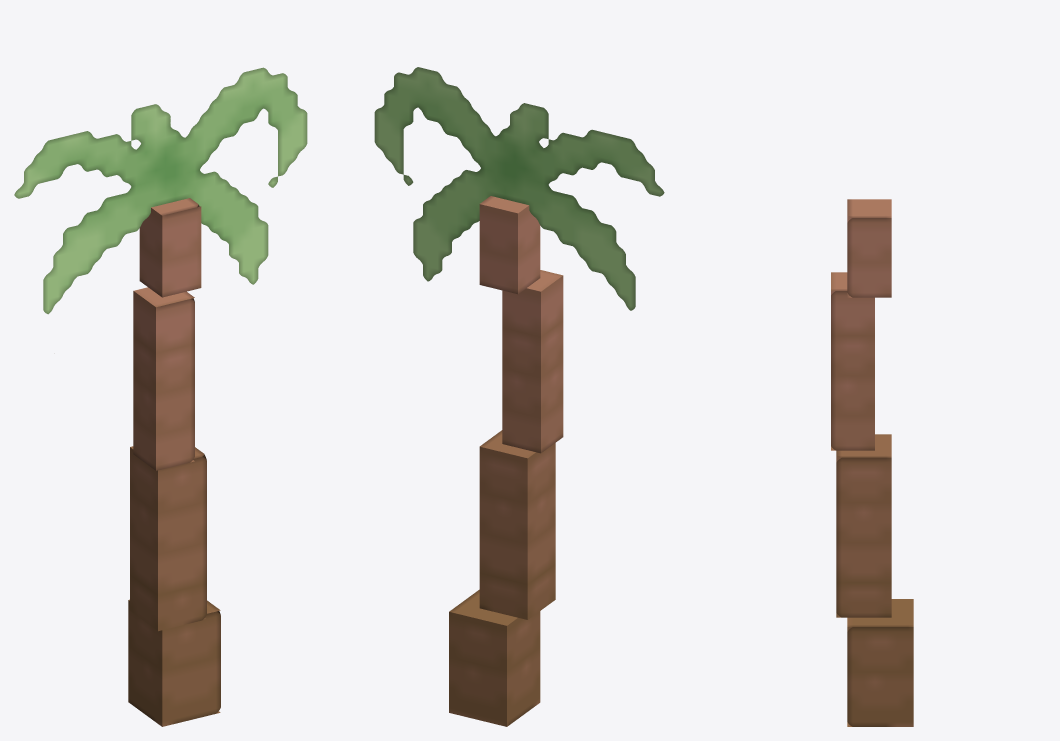
File: PalmTreeStage3.fbx
3 renders of one model, left to right at view 1: azimuth 30°, elevation 25°; view 2: azimuth 150°, elevation 25°; view 3: azimuth 270°, elevation 25°, orthographic. The views are drawn at different scales.
Visible parts, largest first — view 1: crown, trunk, trunk_2, trunk_1, trunk_3; view 2: crown, trunk, trunk_2, trunk_1, trunk_3; view 3: trunk, trunk_1, trunk_2, trunk_3.
Part boxes in pixels (box(x1,y1,x2,y2)): crown: box(14, 67, 307, 314); trunk: box(130, 446, 206, 631); trunk_2: box(133, 287, 194, 470); trunk_1: box(128, 599, 220, 726); trunk_3: box(139, 198, 201, 297); crown: box(374, 67, 664, 310); trunk: box(479, 430, 555, 619); trunk_2: box(502, 270, 563, 453); trunk_1: box(449, 589, 540, 726); trunk_3: box(479, 196, 540, 294); trunk: box(836, 434, 891, 617); trunk_1: box(847, 599, 913, 726); trunk_2: box(831, 272, 874, 450); trunk_3: box(847, 199, 891, 297).
Size of the model in its own units: 100 by 194 by 100.
Materials: 1 (1 with a texture image).
